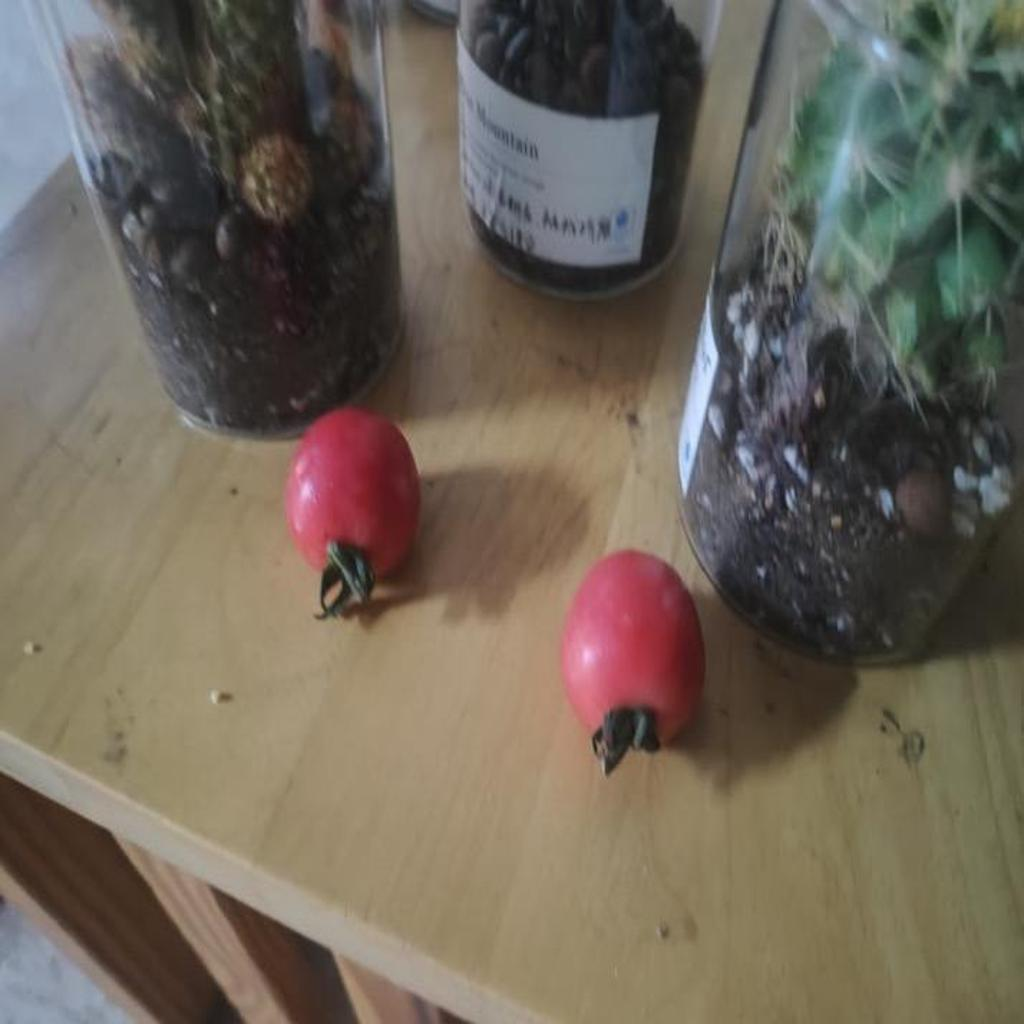tomato: (282, 402, 441, 605), (575, 548, 703, 758)
